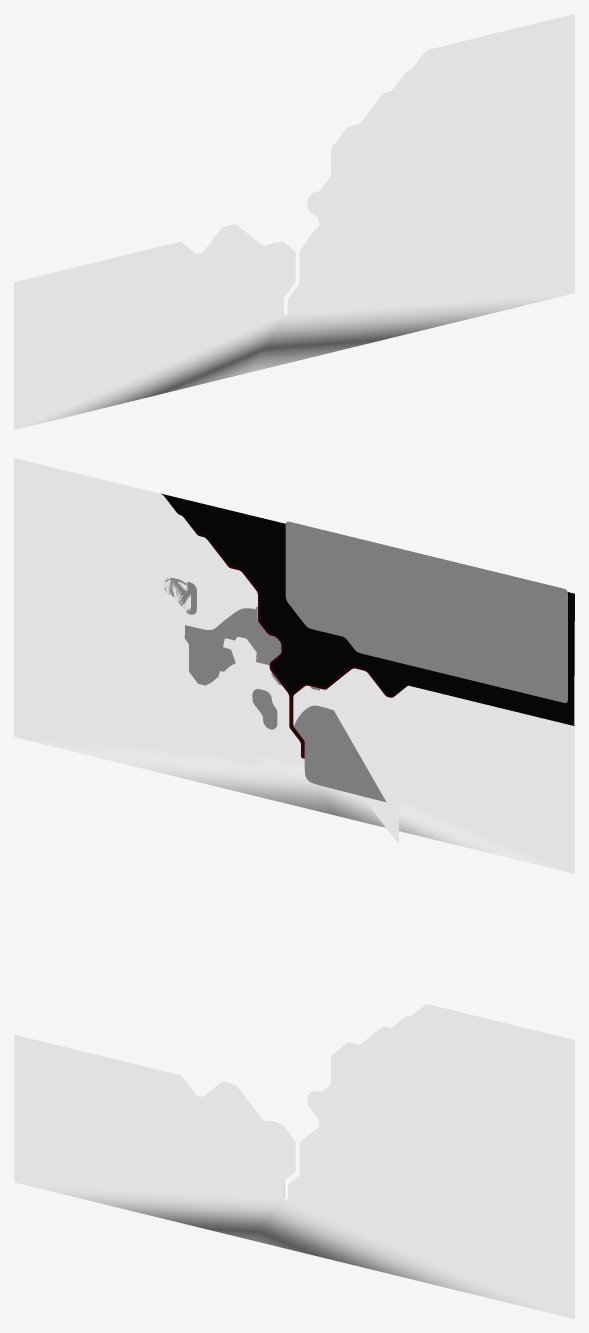
Rendered from Cairns.glb.
3 views of the same model, one above another, from view 1: azimuth 30°, elevation 25°; view 2: azimuth 150°, elevation 25°; view 3: azimuth 330°, elevation 25° (orthographic).
Visible parts, largest first — view 1: Cairns_land; view 2: Cairns_land, Cairns_Reef, Cairns_Mountain_Shadows, Cairns_Mountain_Bottom, Cairns_water, Cairns_Mountain_Middle, Cairns_Grass, Cairns_Mountain_Top, MSH_Map_Grass_Middle_03, MSH_Map_Grass_Middle_05; view 3: Cairns_land.
Part boxes in pixels (x1,y1,x2,y2): Cairns_land: [14, 14, 574, 429]; Cairns_land: [14, 458, 574, 873]; Cairns_Reef: [285, 521, 567, 702]; Cairns_Mountain_Shadows: [98, 498, 398, 843]; Cairns_Mountain_Bottom: [97, 479, 387, 827]; Cairns_water: [161, 493, 574, 758]; Cairns_Mountain_Middle: [101, 483, 357, 736]; Cairns_Grass: [184, 608, 385, 802]; Cairns_Mountain_Top: [103, 487, 379, 723]; MSH_Map_Grass_Middle_03: [252, 689, 277, 729]; MSH_Map_Grass_Middle_05: [164, 577, 196, 614]; Cairns_land: [14, 1004, 574, 1318].
Size of the model in its own units: 286 by 144 by 0.3956.
10 materials, 1 textured.
